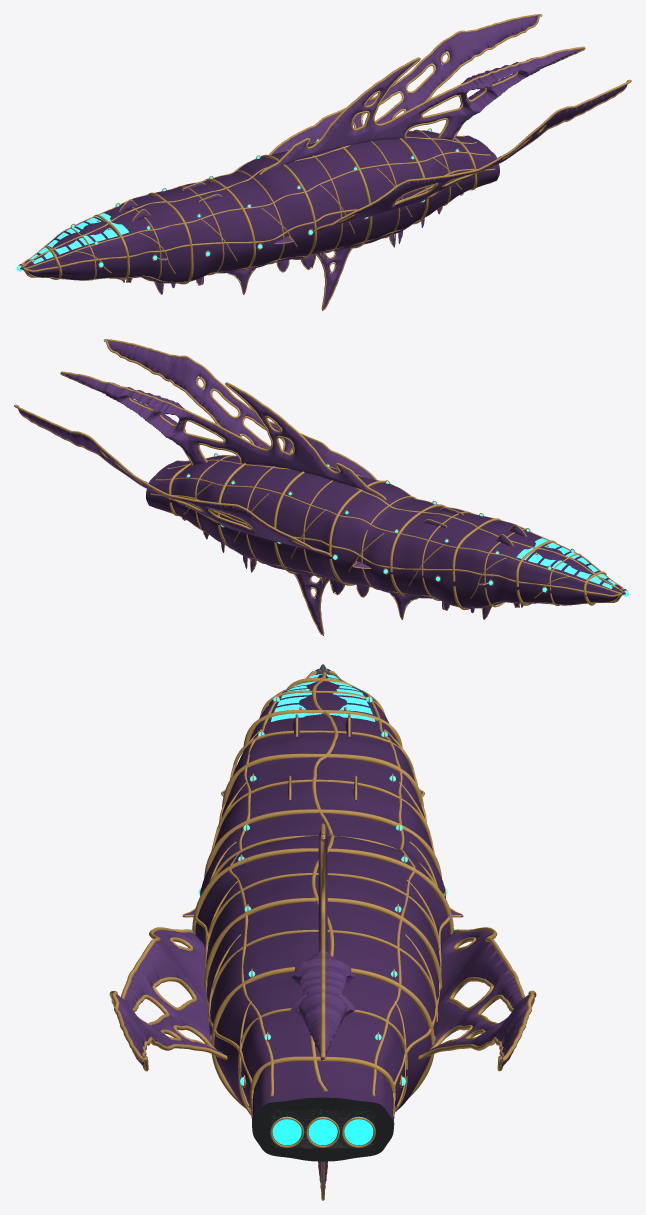
File: model_v36_web.glb
The picture shows the model from 3 angles, top to bottom: view 1: azimuth 30°, elevation 25°; view 2: azimuth 150°, elevation 25°; view 3: azimuth 270°, elevation 25°; orthographic projection. The views are drawn at different scales.
Visible parts, largest first — view 1: EXT__EXT_Hull, EXT__EXT_Blade__NC, EXT__EXT_Copper, EXT__EXT_Copper__NC, EXT__EXT_Blade, EXT__EXT_Teal; view 2: EXT__EXT_Hull, EXT__EXT_Blade__NC, EXT__EXT_Copper, EXT__EXT_Copper__NC, EXT__EXT_Blade, EXT__EXT_Teal; view 3: EXT__EXT_Hull, EXT__EXT_Copper, EXT__EXT_Blade__NC, EXT__EXT_Blade, EXT__INT_Dark, EXT__EXT_Copper__NC, EXT__EXT_Teal, DRV__DRV_Glow__NC, INT_S__INT_Shell.
Boxes of the visible parts, x1,y1,x2,y2 form: EXT__EXT_Hull: (19, 130, 499, 283); EXT__EXT_Blade__NC: (25, 15, 585, 310); EXT__EXT_Copper: (18, 79, 631, 293); EXT__EXT_Copper__NC: (20, 14, 585, 310); EXT__EXT_Blade: (22, 81, 627, 294); EXT__EXT_Teal: (29, 213, 128, 263); EXT__EXT_Hull: (146, 455, 626, 608); EXT__EXT_Blade__NC: (17, 372, 623, 635); EXT__EXT_Copper: (104, 339, 627, 609); EXT__EXT_Copper__NC: (14, 371, 623, 635); EXT__EXT_Blade: (103, 340, 622, 590); EXT__EXT_Teal: (516, 538, 616, 588); EXT__EXT_Hull: (195, 669, 450, 1131); EXT__EXT_Copper: (109, 669, 453, 1118); EXT__EXT_Blade__NC: (290, 671, 529, 1194); EXT__EXT_Blade: (114, 671, 320, 1067); EXT__INT_Dark: (252, 1097, 393, 1161); EXT__EXT_Copper__NC: (320, 669, 536, 1200); EXT__EXT_Teal: (271, 674, 375, 721); DRV__DRV_Glow__NC: (308, 1116, 373, 1145); INT_S__INT_Shell: (271, 1109, 374, 1148).
Size of the model in its own units: 118 by 45.32 by 38.11.
